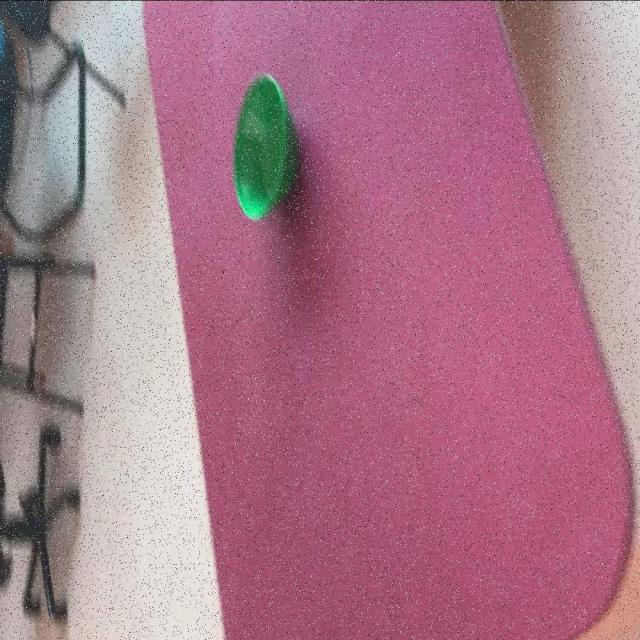Bowl: (231, 72, 298, 223)
